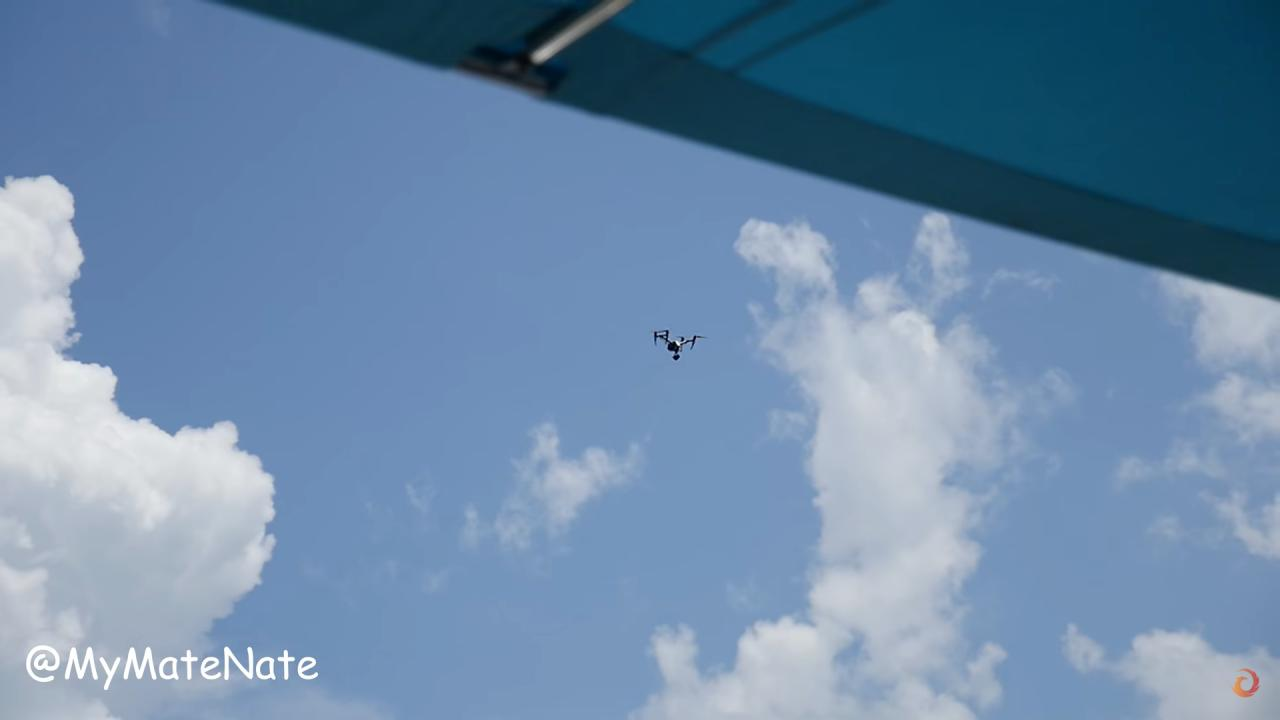Drone: (646, 321, 710, 368)
